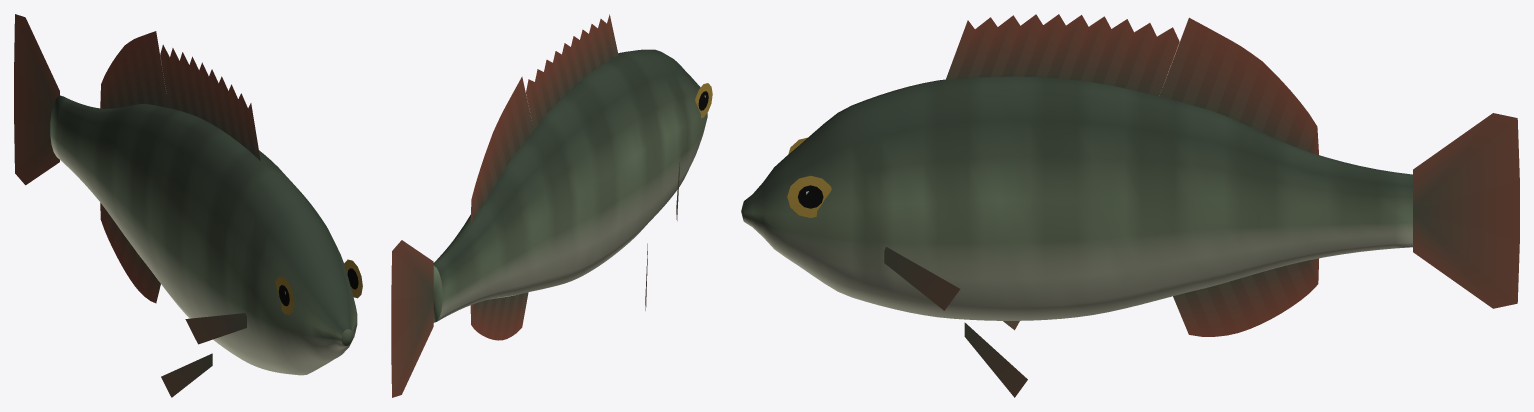
File: tilapia.fbx
3 views of the same model, side by side, from view 1: azimuth 30°, elevation 25°; view 2: azimuth 150°, elevation 25°; view 3: azimuth 270°, elevation 25° (orthographic). The views are drawn at different scales.
Parts seen in each view (by area): view 1: tilapia; view 2: tilapia; view 3: tilapia.
Part boxes in pixels (x1,y1,x2,y2): tilapia: [14, 14, 362, 397]; tilapia: [391, 14, 712, 397]; tilapia: [741, 14, 1519, 397].
Bounding box in the file's own units: 0.277 × 0.5776 × 1.16.
